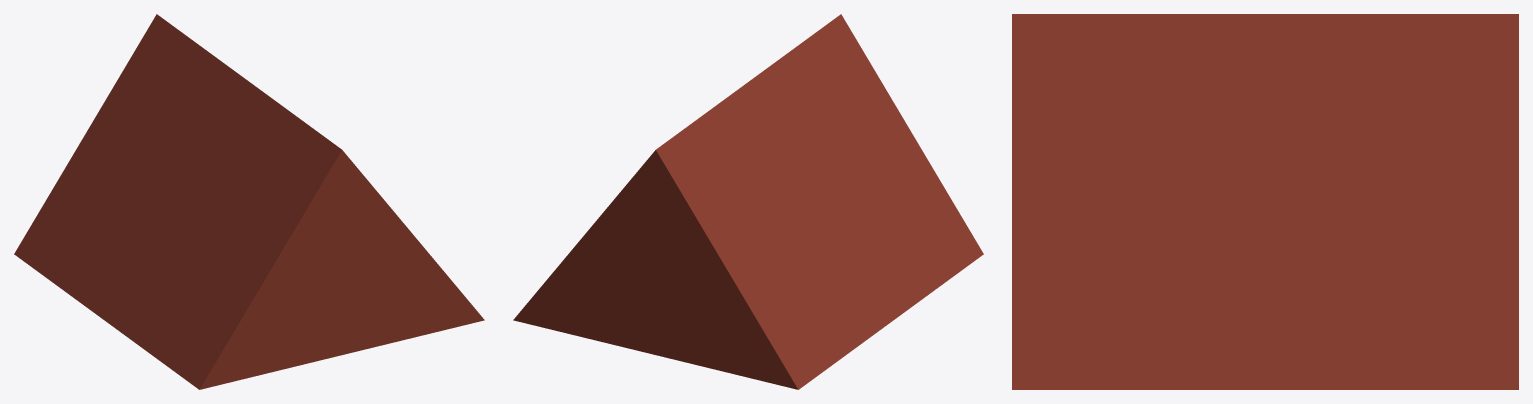
Rendered from tent.glb.
3 views of the same model, side by side, from view 1: azimuth 30°, elevation 25°; view 2: azimuth 150°, elevation 25°; view 3: azimuth 270°, elevation 25° (orthographic). The views are drawn at different scales.
Parts seen in each view (by area): view 1: building; view 2: building; view 3: building.
Boxes of the visible parts, left/top/right/bottom form: building: left=14, top=14, right=484, bottom=389; building: left=513, top=14, right=983, bottom=389; building: left=1012, top=14, right=1518, bottom=389.
Bounding box in the file's own units: 1.6 × 1.1 × 1.8.
